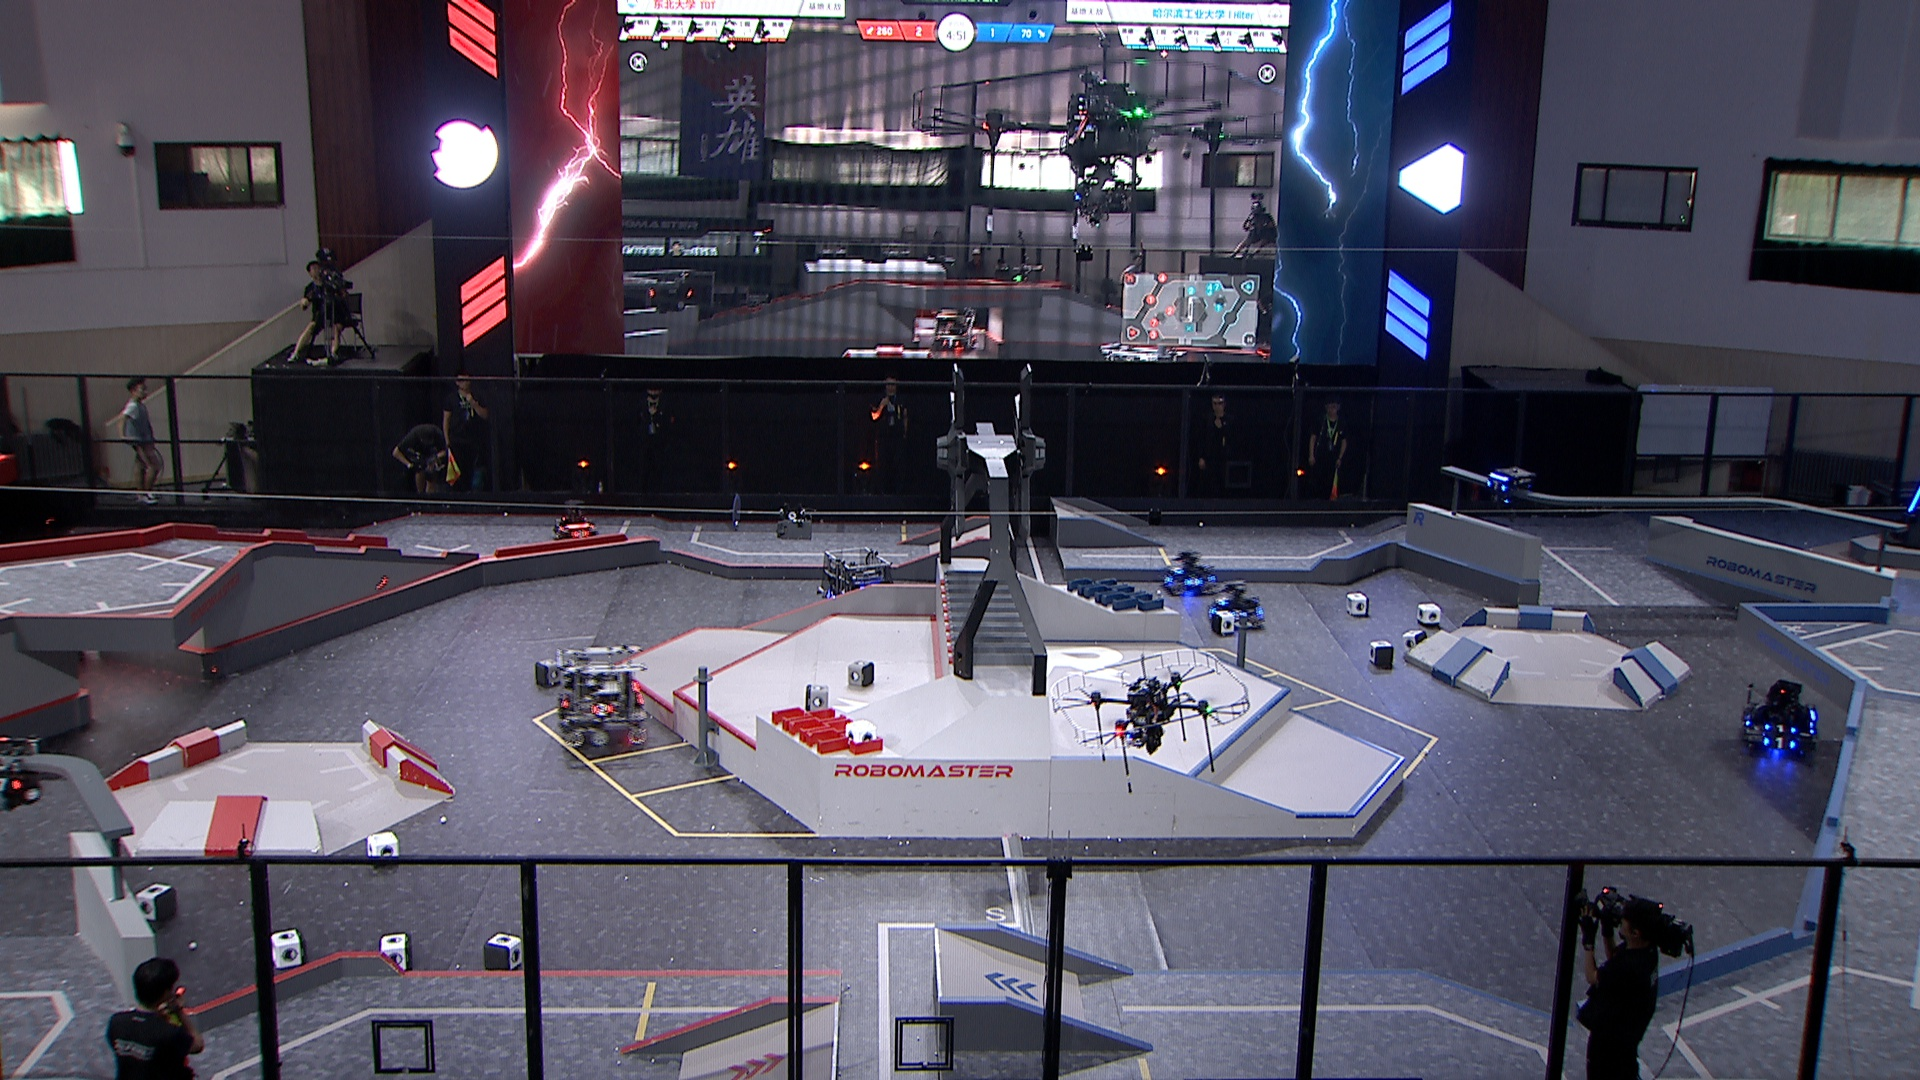armor: (1904, 484, 1920, 514), (1764, 723, 1797, 735), (589, 702, 613, 717), (1762, 737, 1793, 749), (0, 773, 18, 790), (1228, 611, 1249, 622), (1183, 576, 1201, 589), (1486, 479, 1506, 491), (572, 529, 589, 541), (1159, 572, 1174, 585), (1207, 603, 1218, 617), (1216, 593, 1229, 605), (1171, 566, 1183, 578)
base: (1882, 456, 1920, 553)
car: (550, 638, 651, 752), (1741, 674, 1825, 754), (818, 543, 902, 622), (1201, 578, 1267, 636), (1156, 550, 1215, 599), (549, 496, 599, 547)
ignore: (922, 302, 977, 353), (645, 277, 694, 315)
watcher: (1480, 460, 1538, 524)
